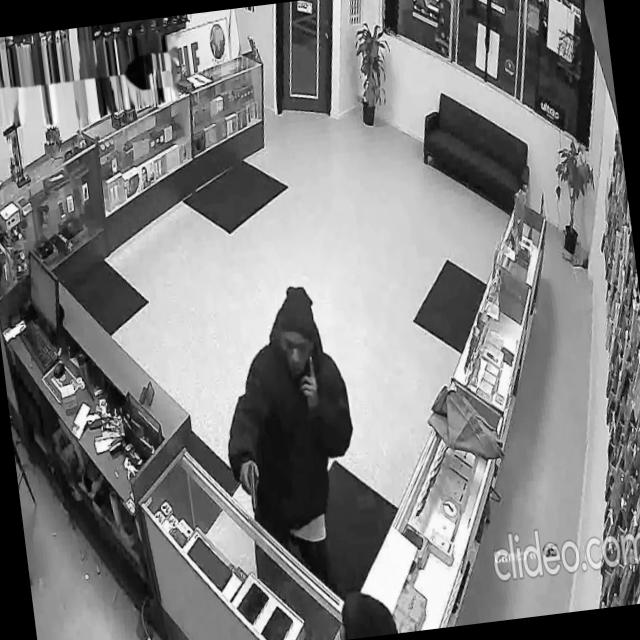gun: (244, 458, 262, 516)
person with a gun: (208, 276, 372, 593)
